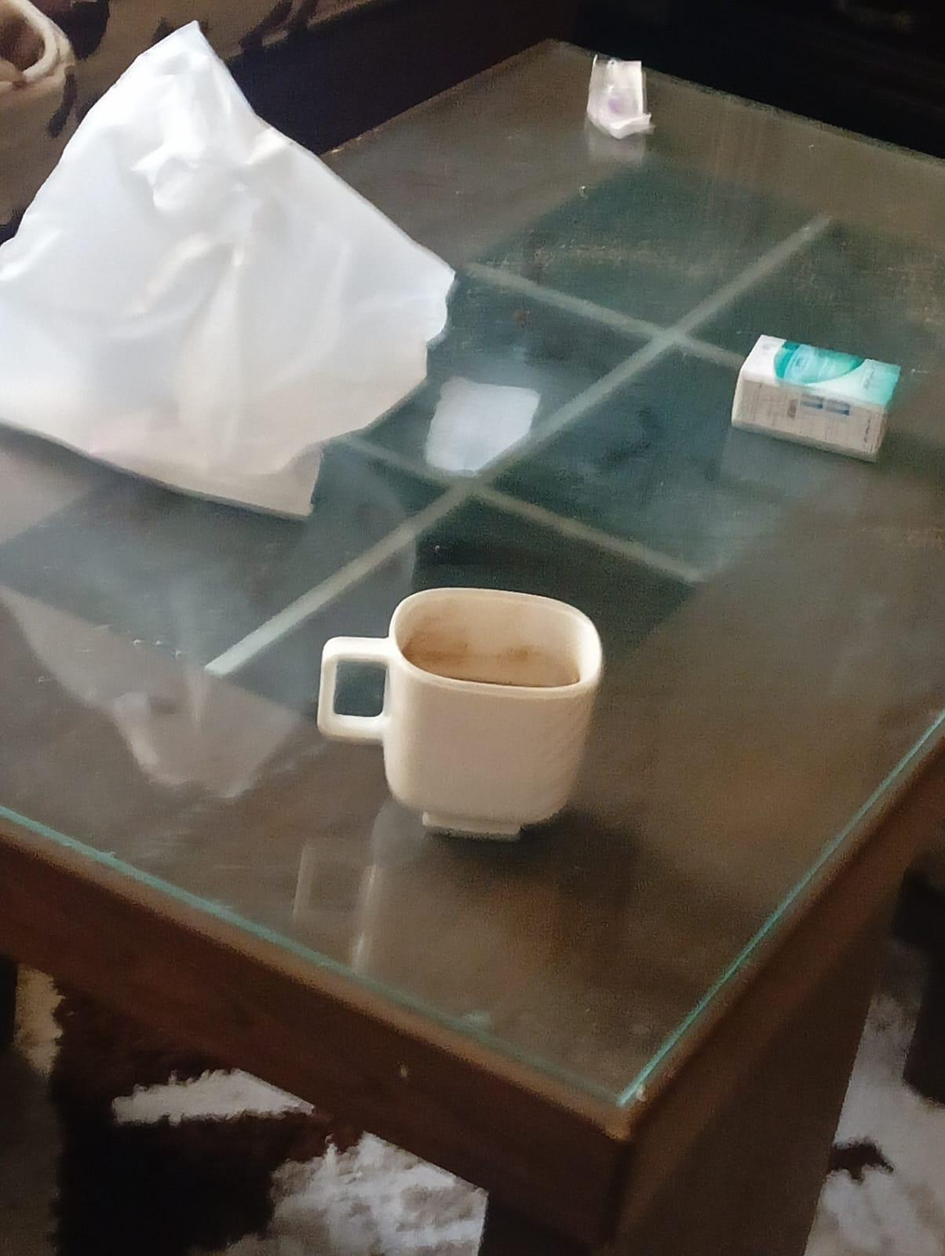cup: (318, 588, 601, 836)
